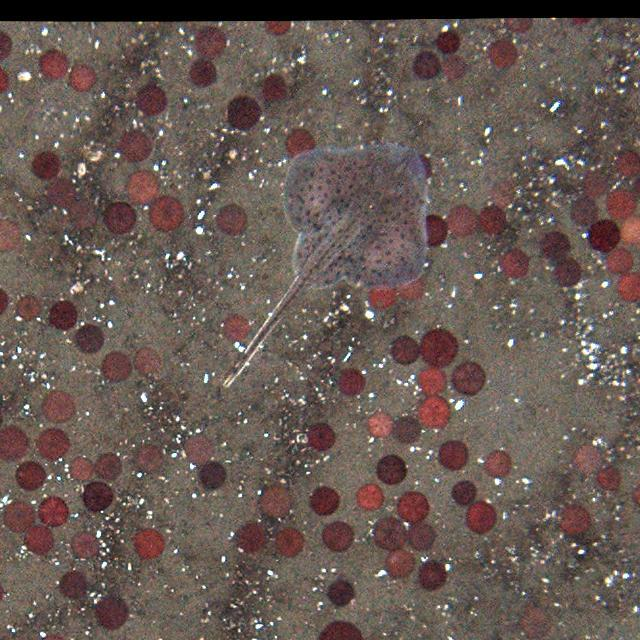skate: (228, 130, 436, 380)
